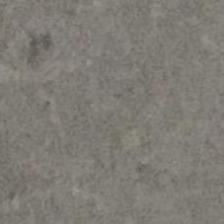Non_Crack: (2, 4, 221, 220)
